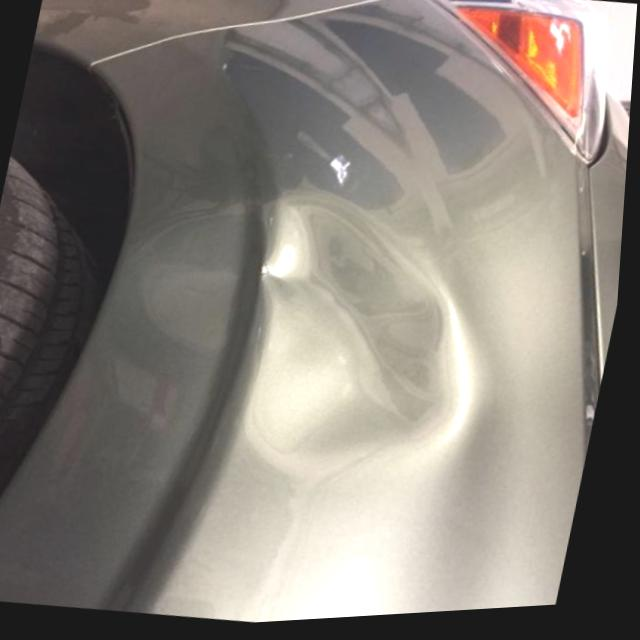Dent: (161, 202, 451, 483)
Scratch: (326, 154, 351, 184)
